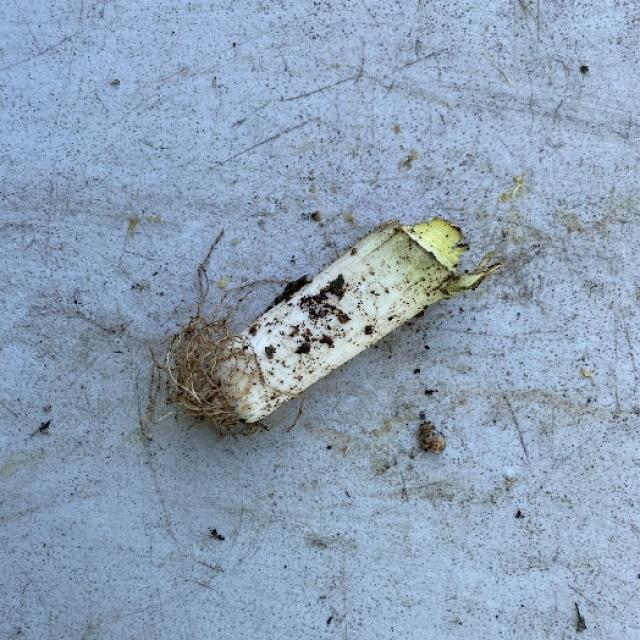organic: (170, 199, 508, 469)
